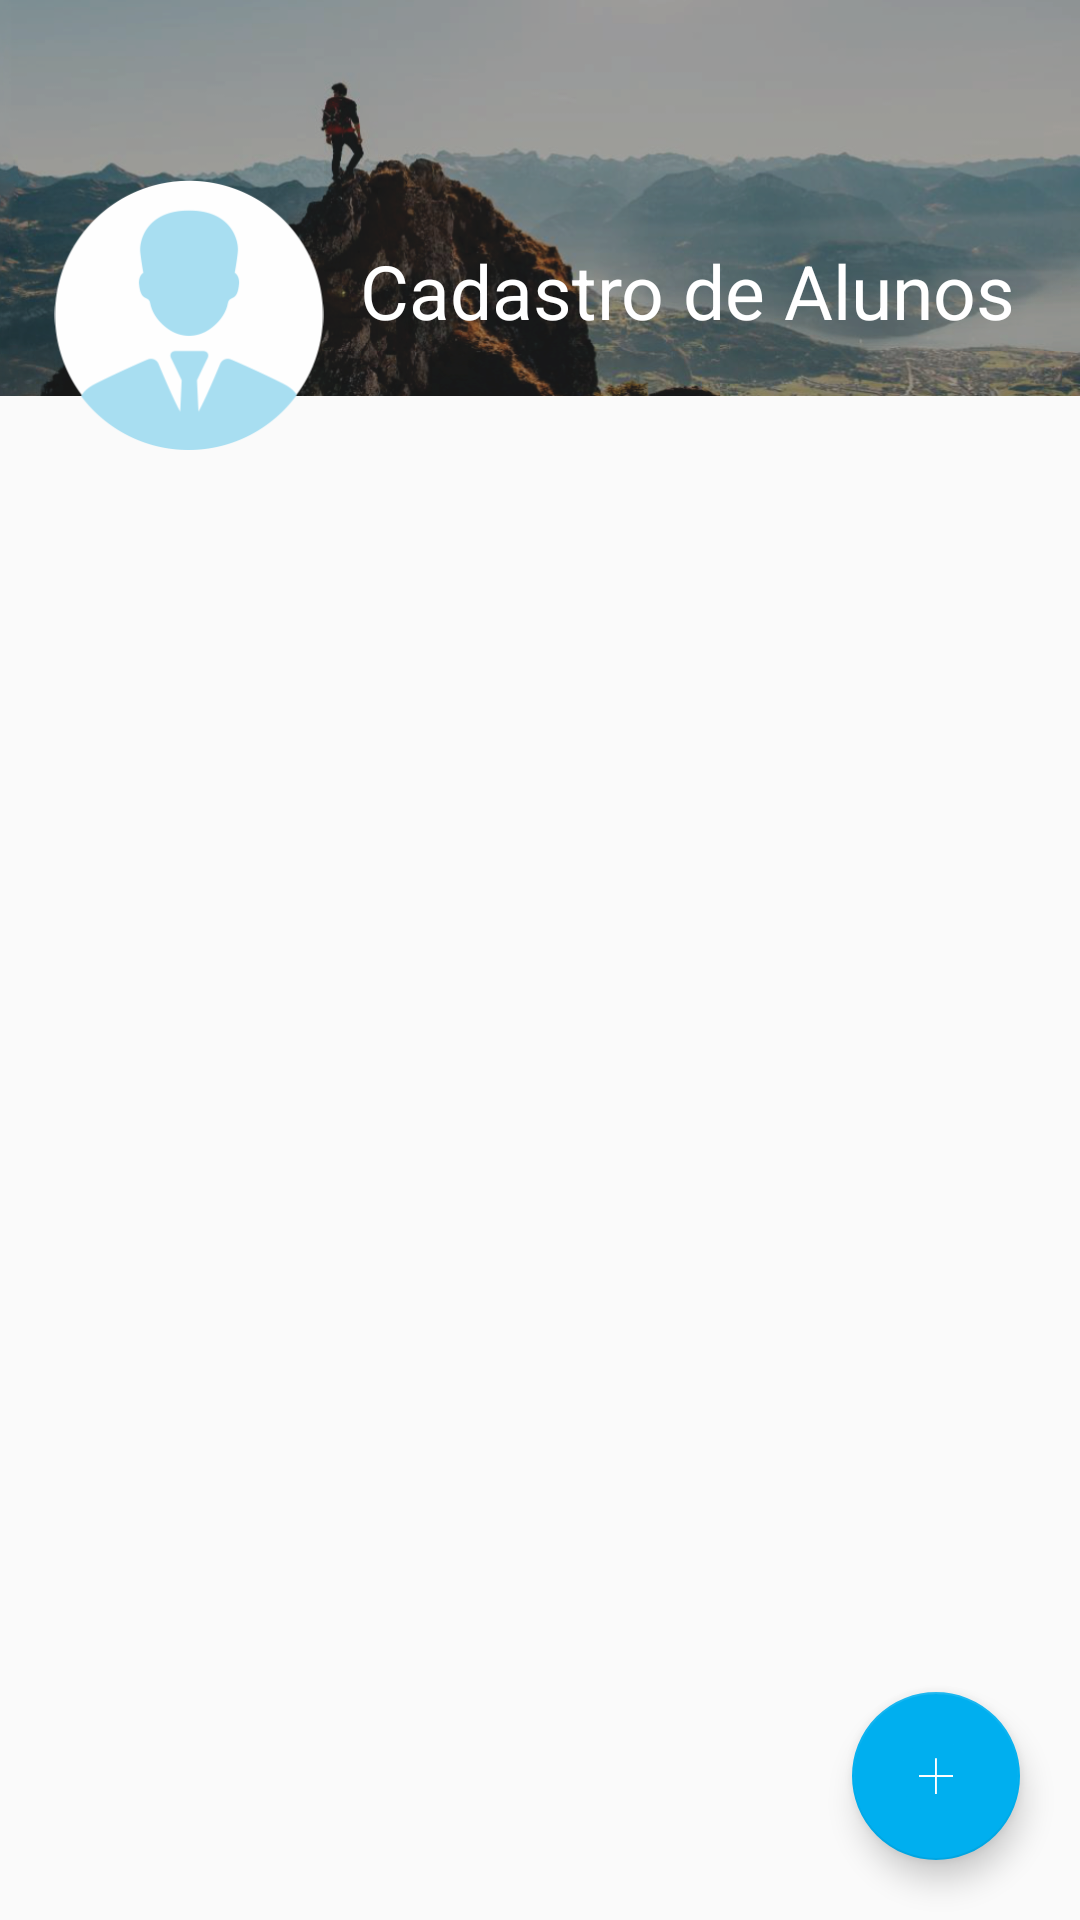

Icons on this 1080px×1920px Android screen, each with its box as (x1, y1, x2, y2):
botao: (852, 1692, 1020, 1860)
